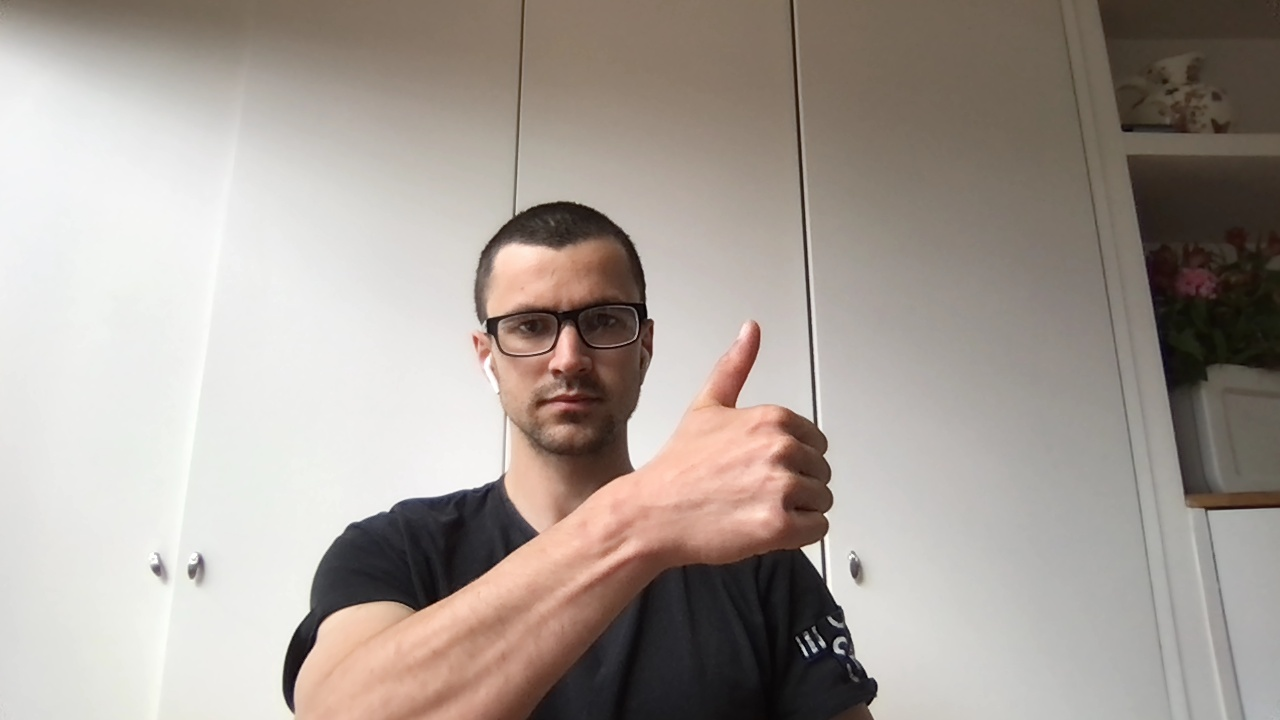thumbUp: (626, 320, 833, 567)
